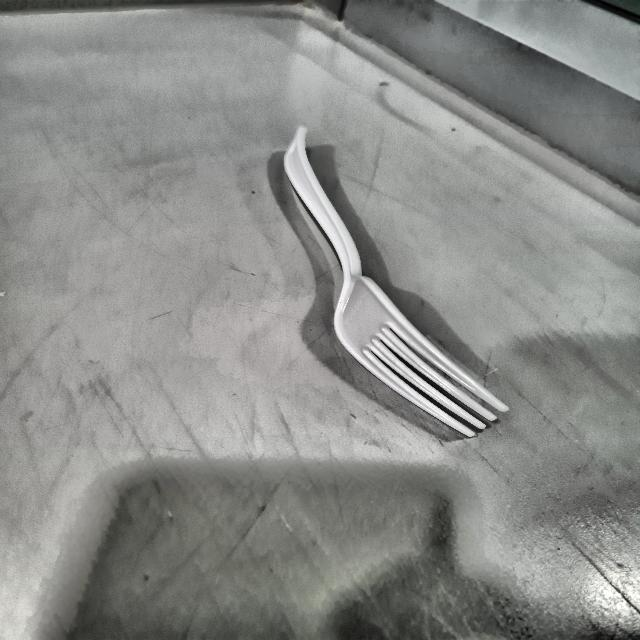plastic utensil: (274, 130, 508, 444)
